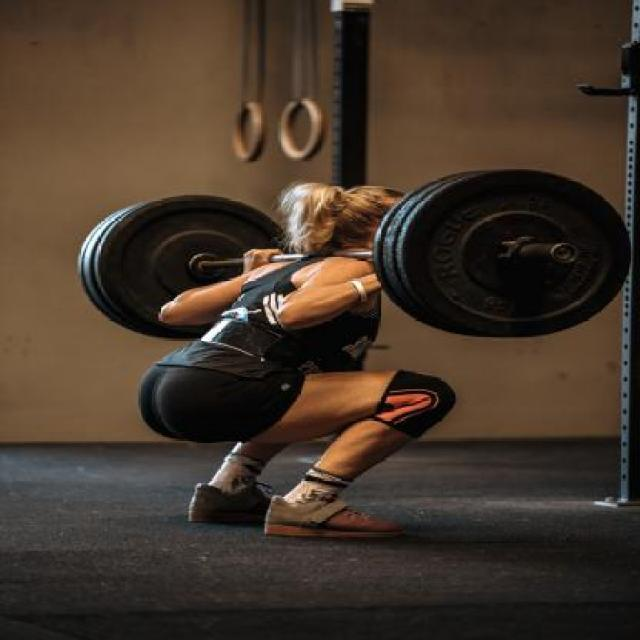Barbell: (548, 240, 582, 266)
